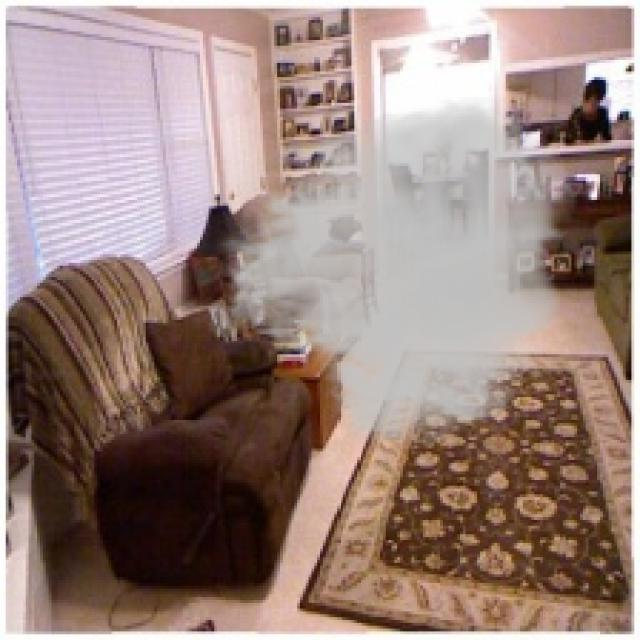smoke: (206, 94, 580, 449)
